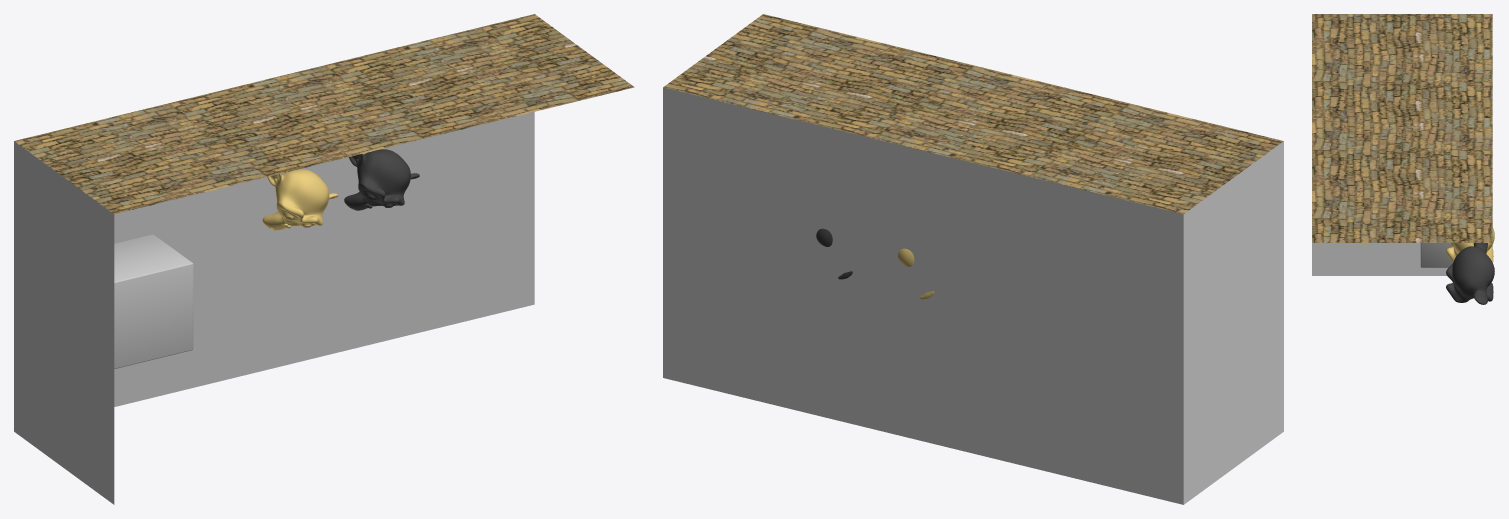
3 renders of one model, left to right at view 1: azimuth 30°, elevation 25°; view 2: azimuth 150°, elevation 25°; view 3: azimuth 270°, elevation 25°, orthographic. The views are drawn at different scales.
Visible parts, largest first — view 1: floor, back_wall, side_wall, box, diffuse, metal; view 2: floor, back_wall, side_wall; view 3: back_wall, side_wall, diffuse, box, metal.
Boxes of the visible parts, box(x1,y1,x2,y2) form: floor: box(114, 112, 534, 406); back_wall: box(14, 14, 634, 214); side_wall: box(14, 141, 114, 504); box: box(114, 234, 193, 368); diffuse: box(344, 149, 419, 210); metal: box(262, 169, 338, 230); floor: box(663, 87, 1183, 504); back_wall: box(663, 14, 1283, 214); side_wall: box(1183, 141, 1283, 504); back_wall: box(1312, 14, 1492, 242); side_wall: box(1312, 243, 1447, 275); diffuse: box(1446, 243, 1494, 304); box: box(1420, 243, 1492, 267); metal: box(1446, 227, 1494, 262).
Bounding box in the file's own units: 15 × 8 × 5.06.
